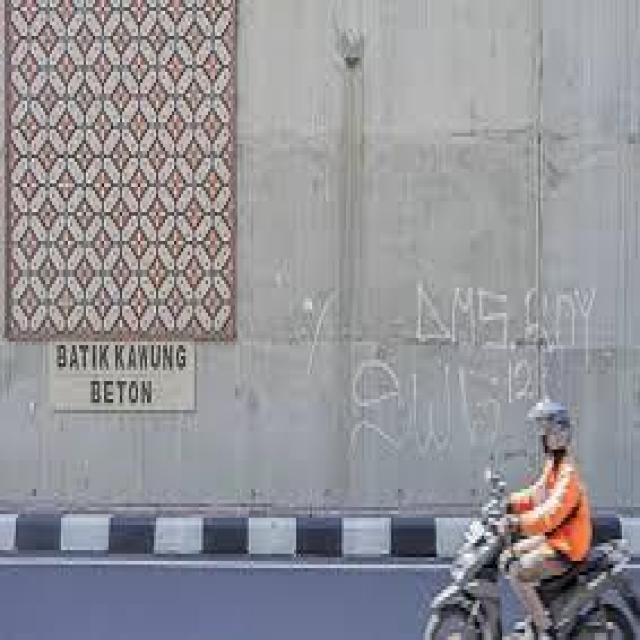nonspitting: (348, 280, 598, 458)
